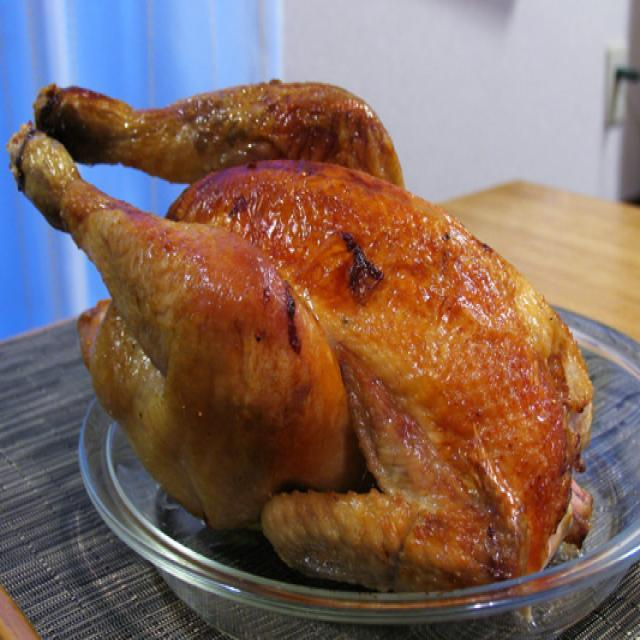Chicken: (14, 78, 590, 596)
